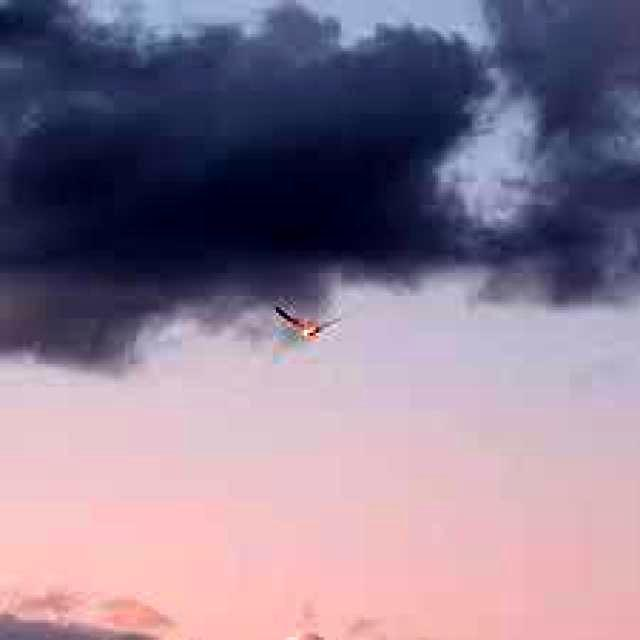bird: (271, 300, 338, 343)
